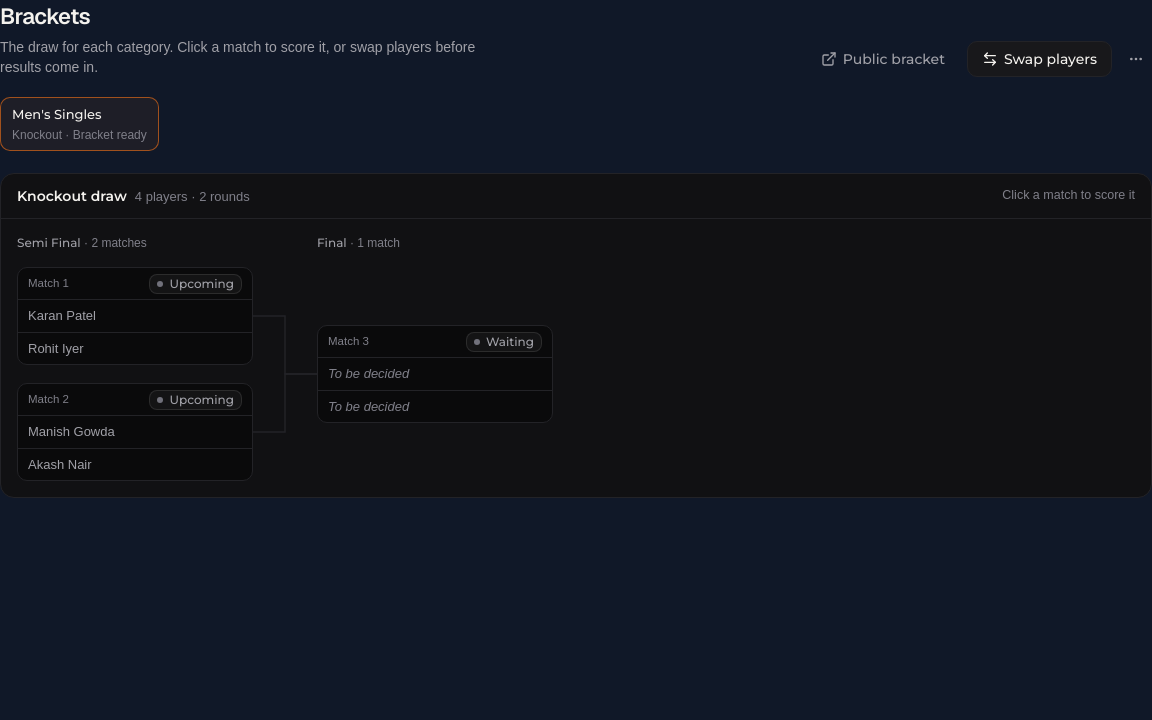
Test: BracketManagementSection › reshuffles round 1 only after confirming
Click the button named "More bracket actions" at [1136, 59], box [1120, 43, 1151, 75]
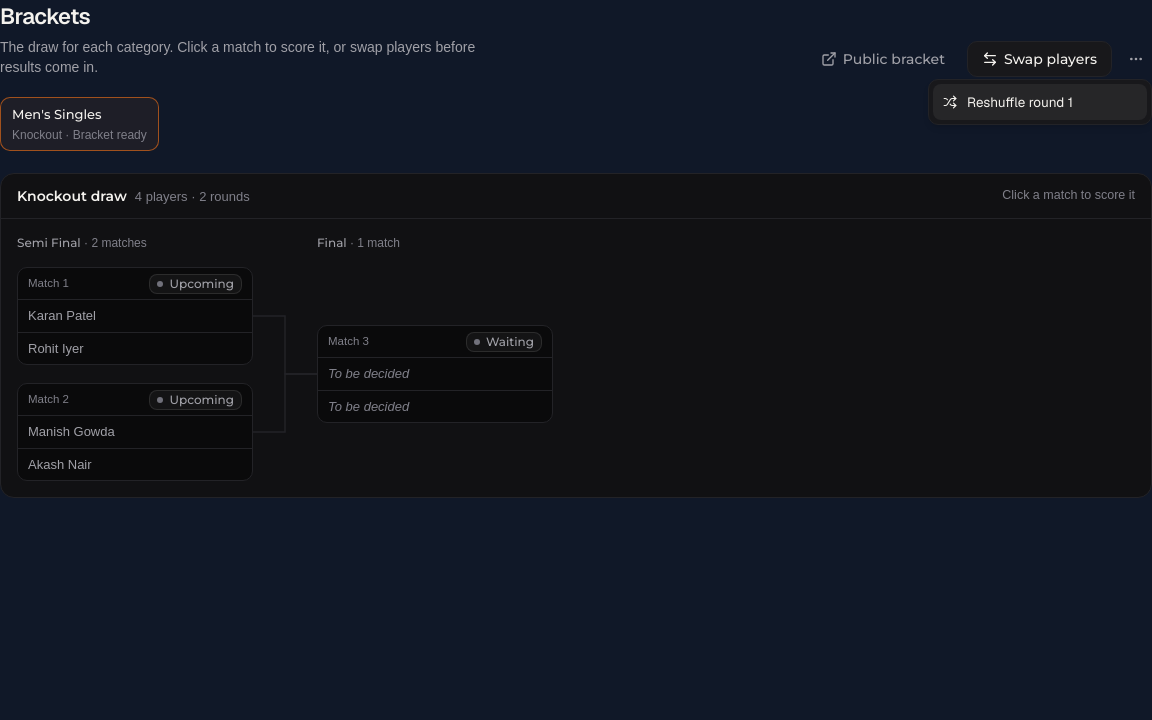
Click the menu item "Reshuffle round 1" at [1040, 102], box [933, 84, 1147, 120]
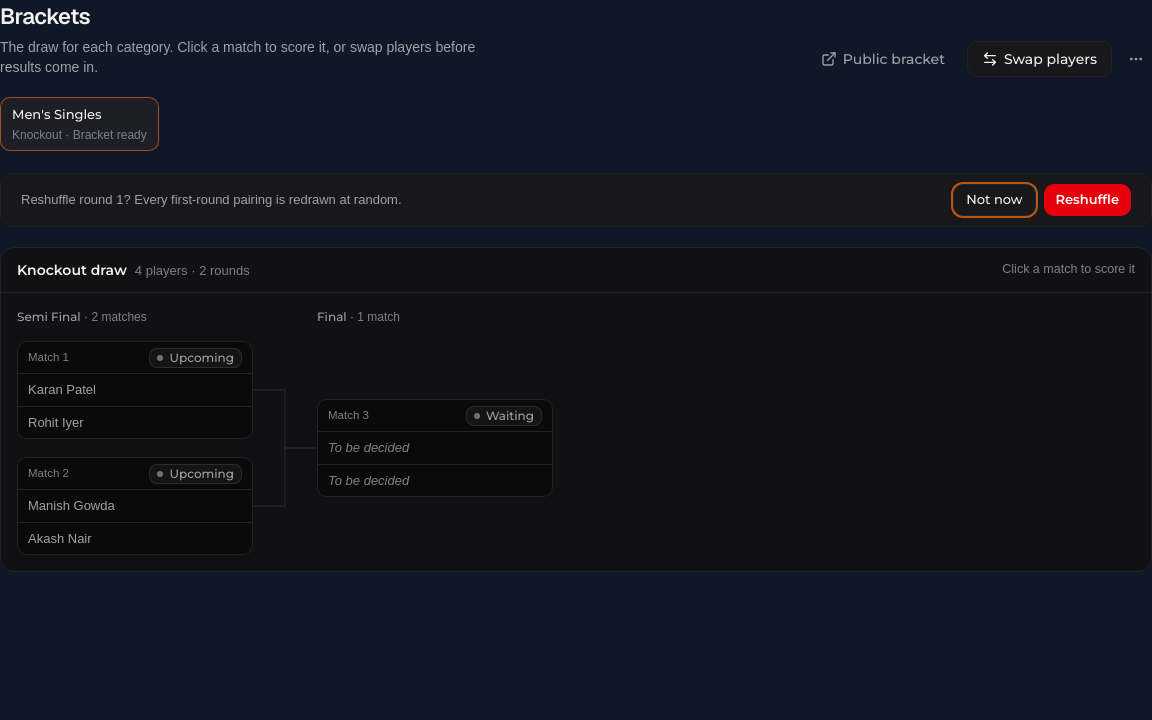
Click the button "Reshuffle" at [1087, 200], box [1044, 184, 1131, 216]
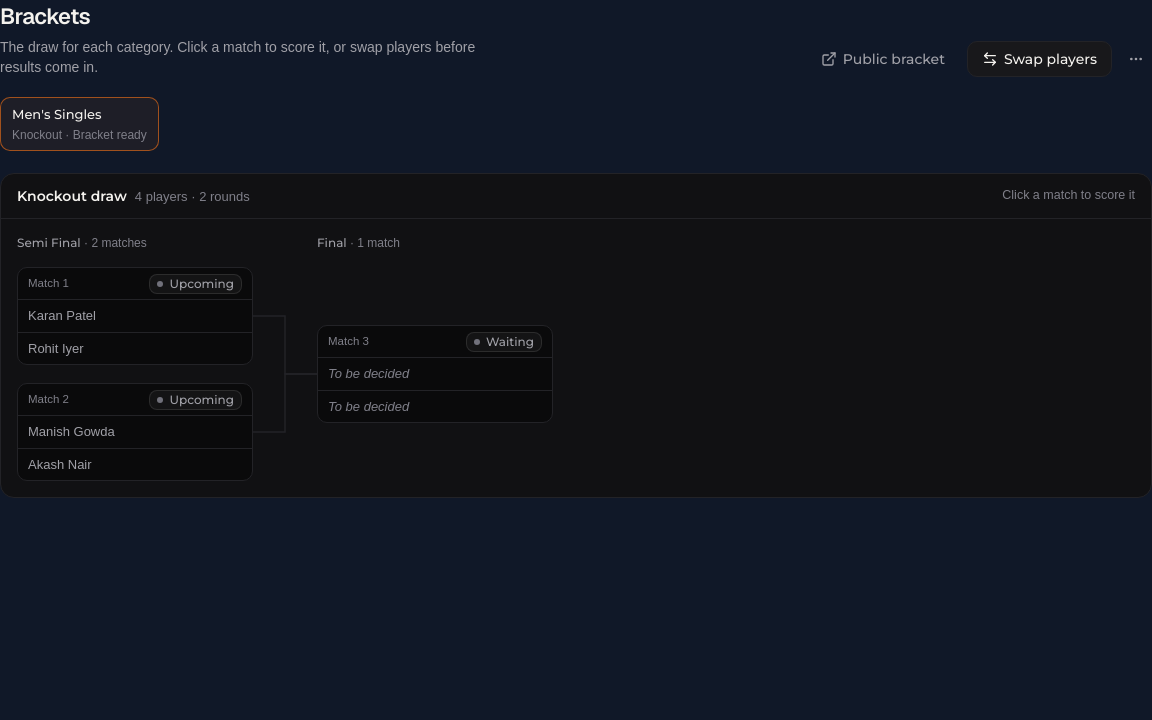
Now the dialog is gone
